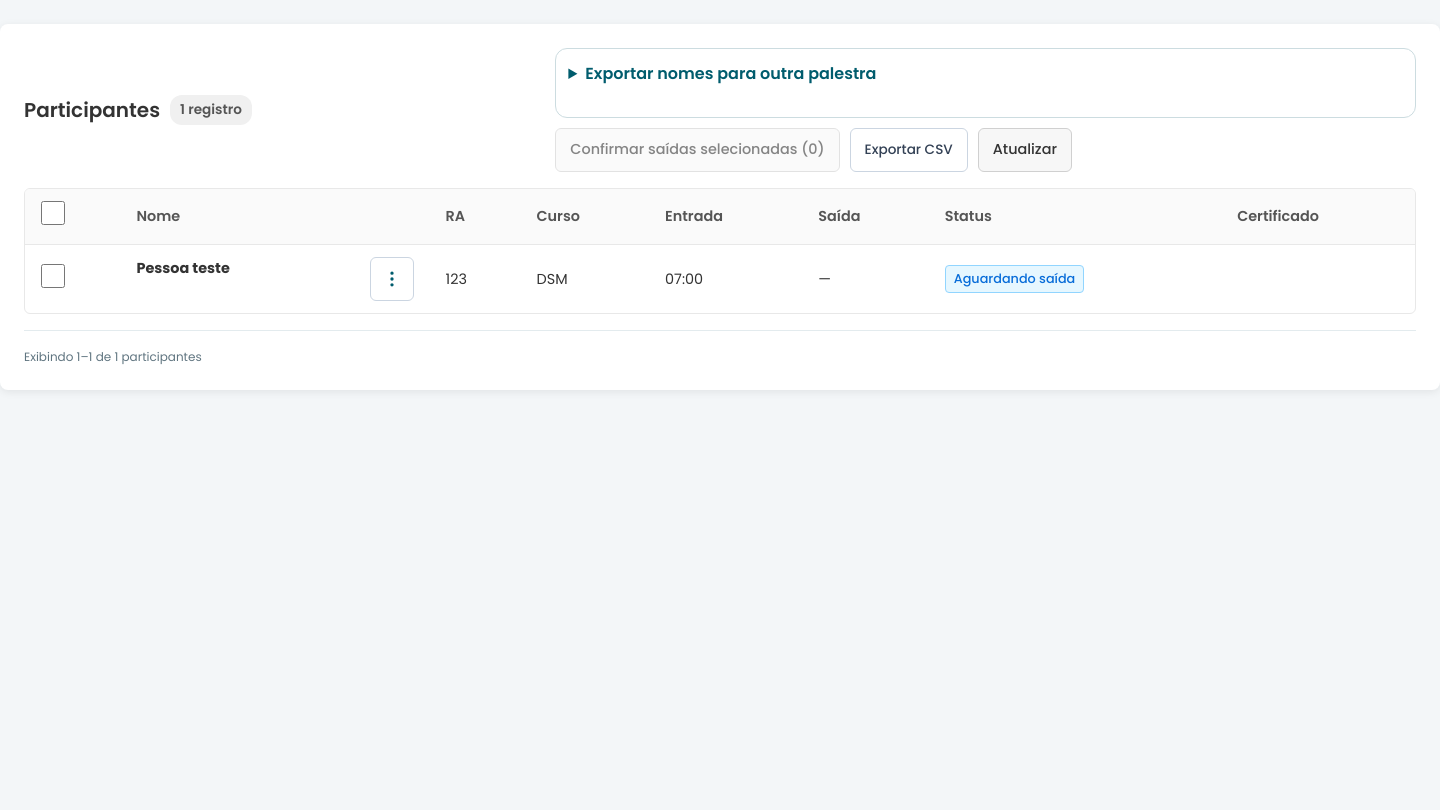
Test: Manual checkout from participant row › confirms by attendance ID, requires reason and refreshes list without QR
Click the heading named "Ações para Pessoa teste" at (392, 279), box [370,257,414,301]
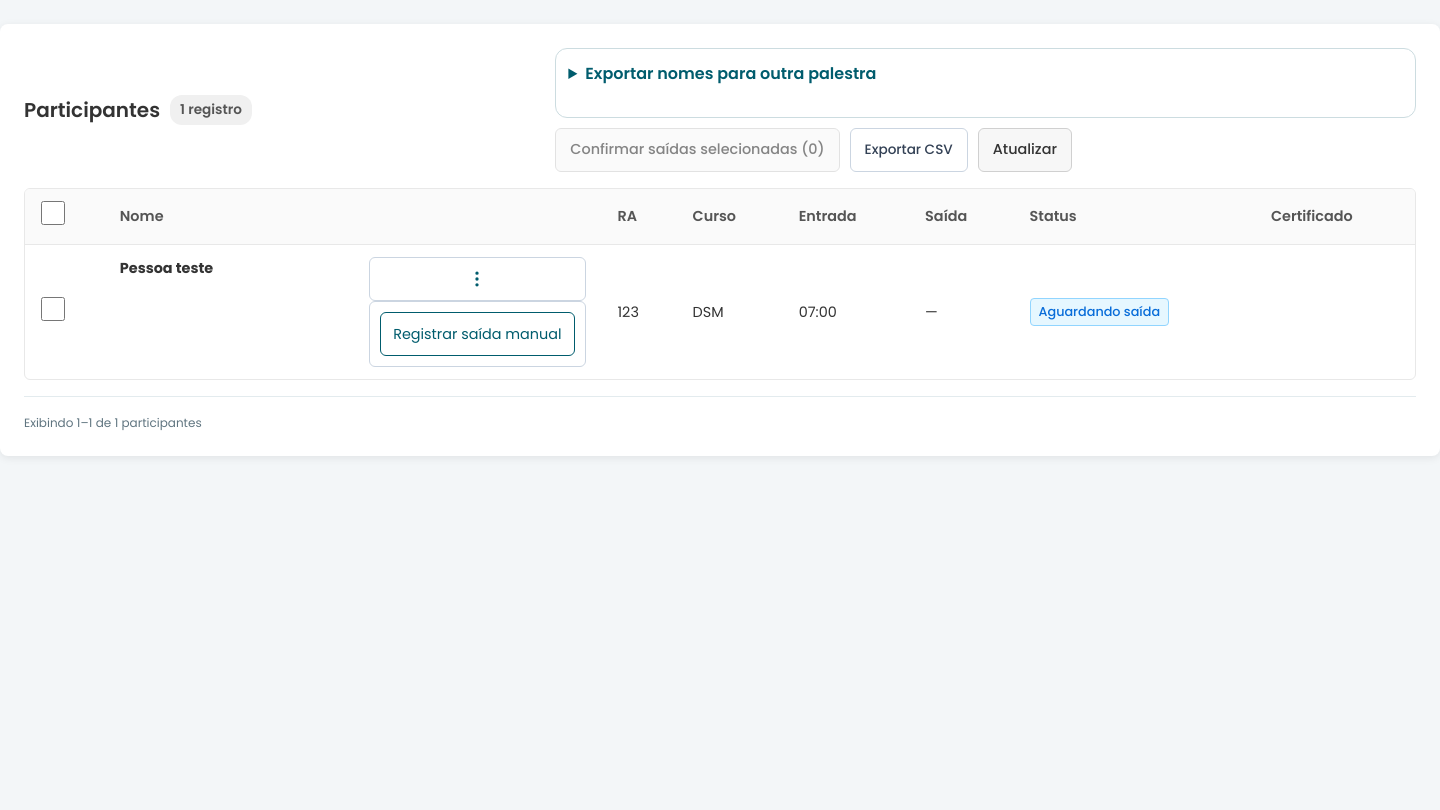
Click the button "Registrar saída manual" at (477, 334), box [380,312,574,356]
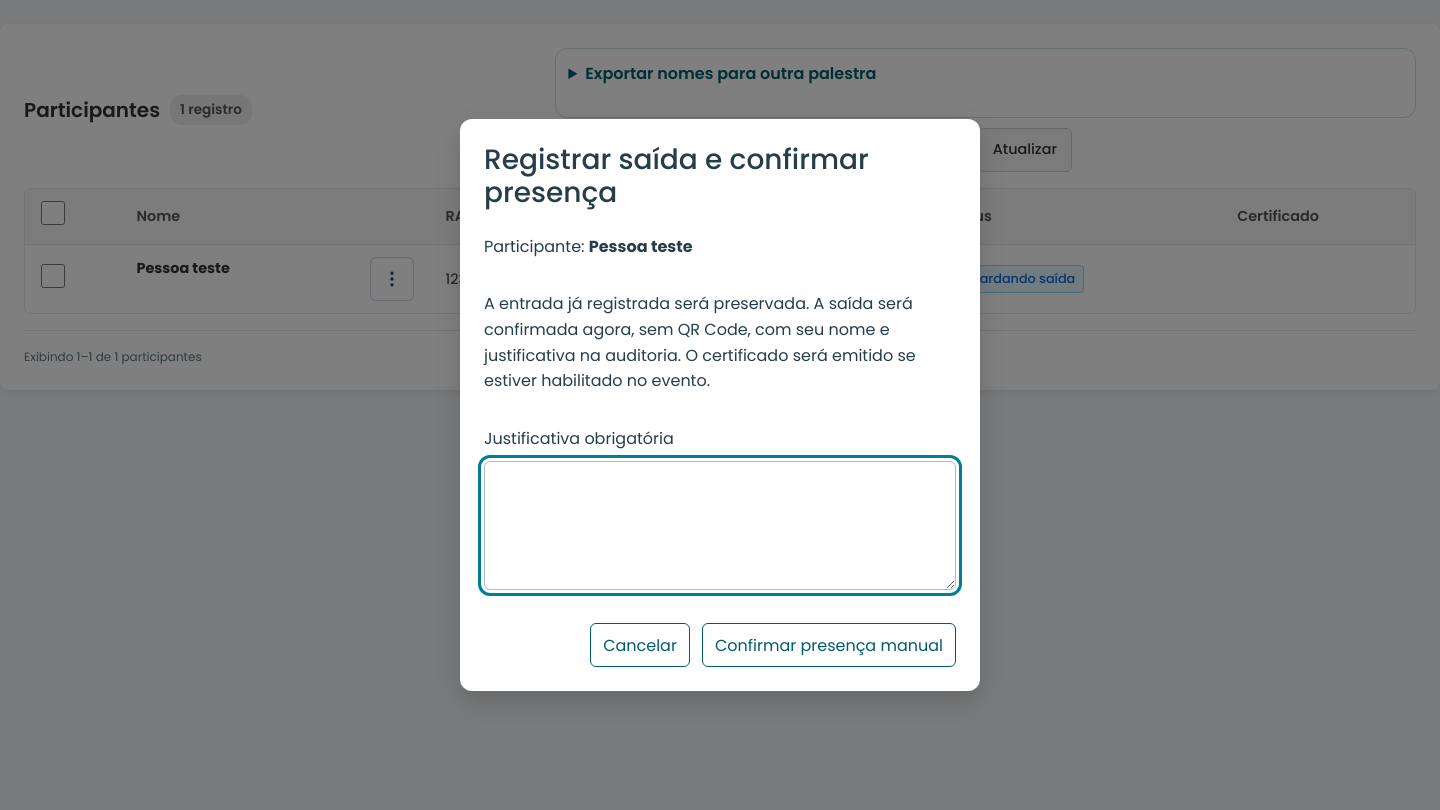
Type "Participação e saída conferidas pela Secretaria." into the text box labelled "Justificativa obrigatória" at (720, 526), box [484,461,956,590]
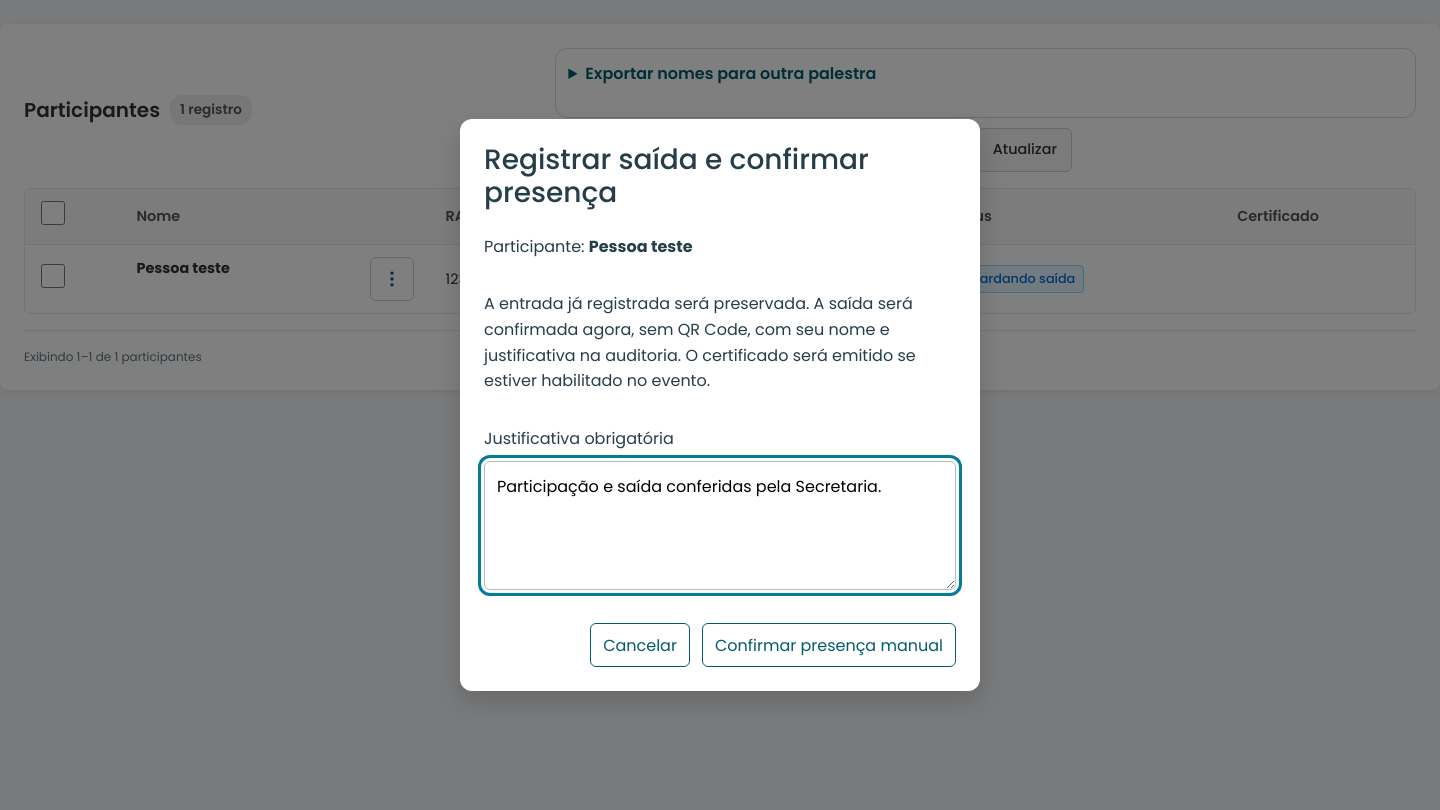
Click the button "Confirmar presença manual" at (829, 645), box [702,623,956,667]
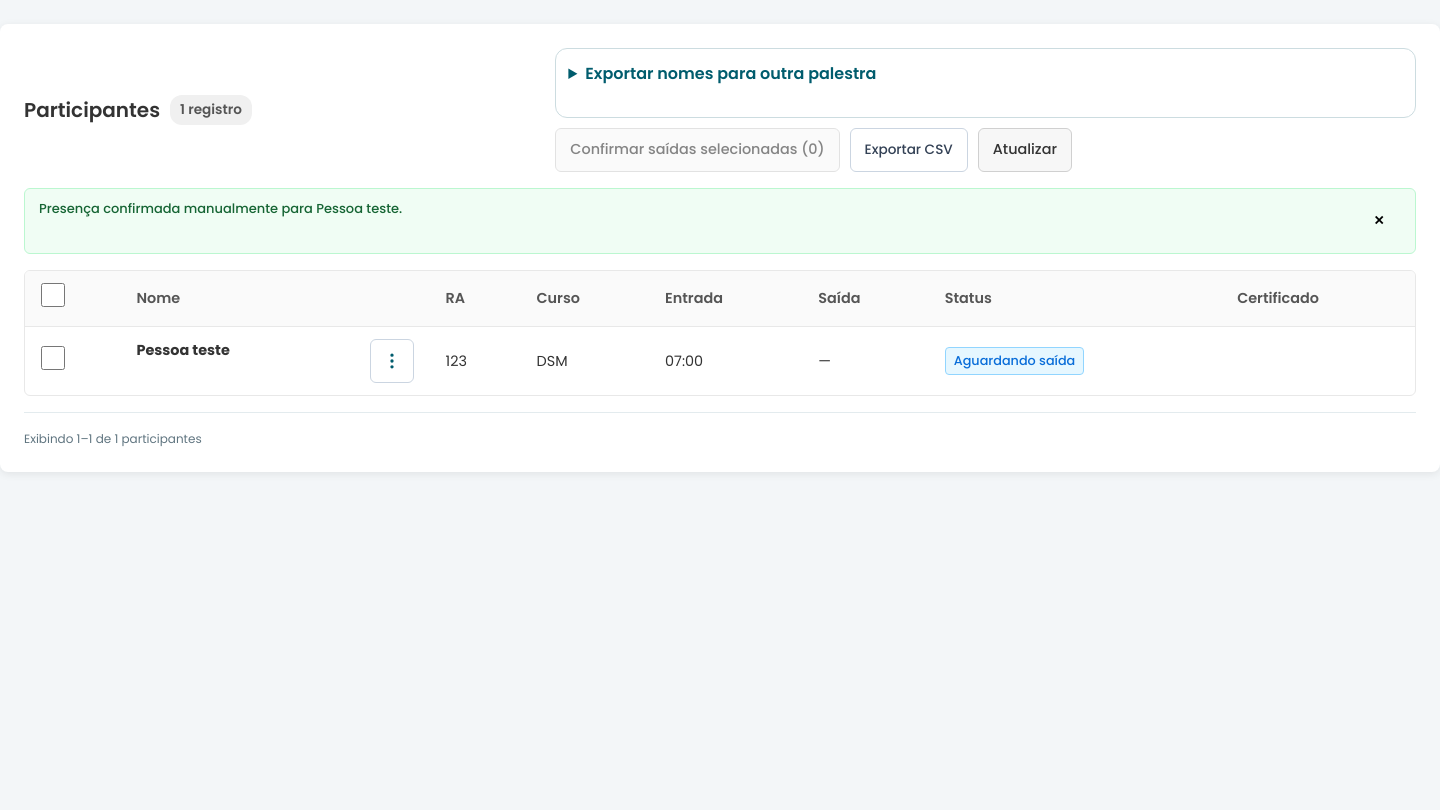
Expected: the dialog is gone
